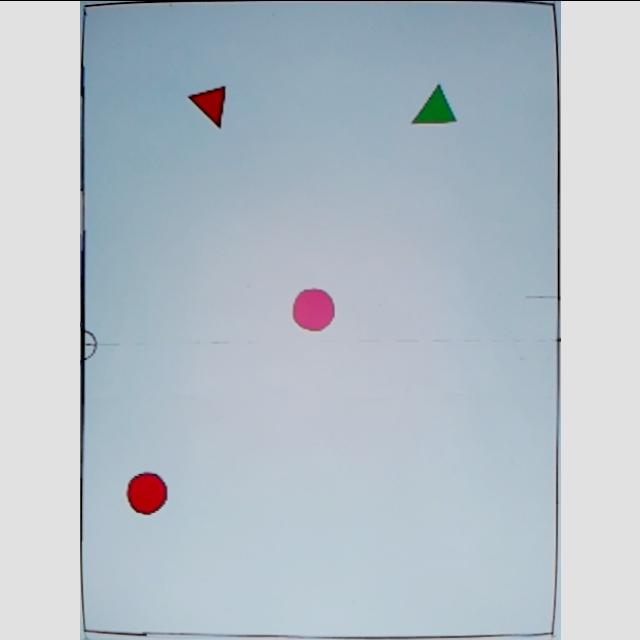greenTriangle: (408, 84, 458, 132)
pinkCircle: (288, 286, 336, 334)
redCircle: (125, 468, 167, 516)
redTriangle: (186, 84, 230, 128)
